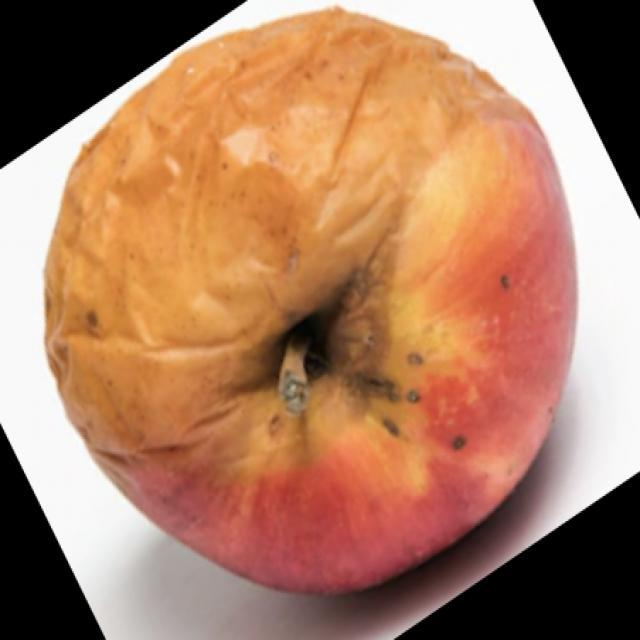Rotten: (48, 18, 567, 597)
